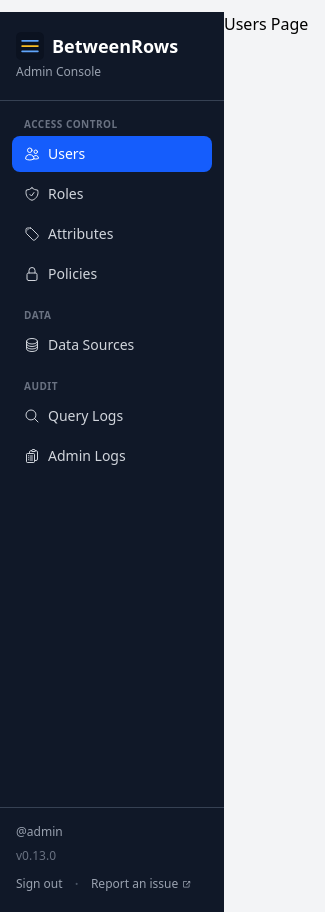
Test case: Layout › sign out button clears auth and navigates to /login
Click the button "Sign out" at [39, 884], box 16,876 -> 63,892
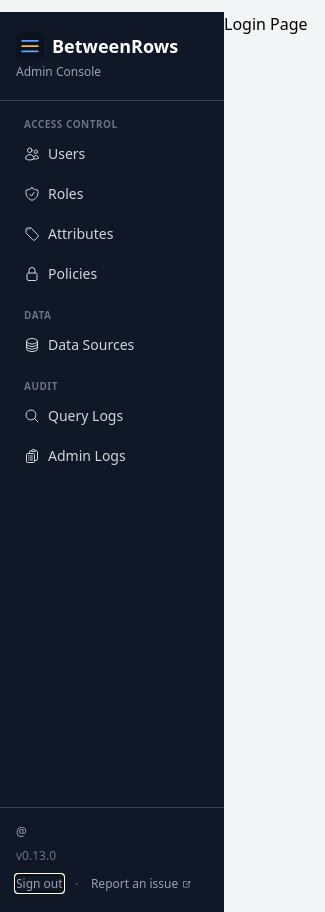
Expected: the text "Login Page" is shown, 224,13 -> 308,35
